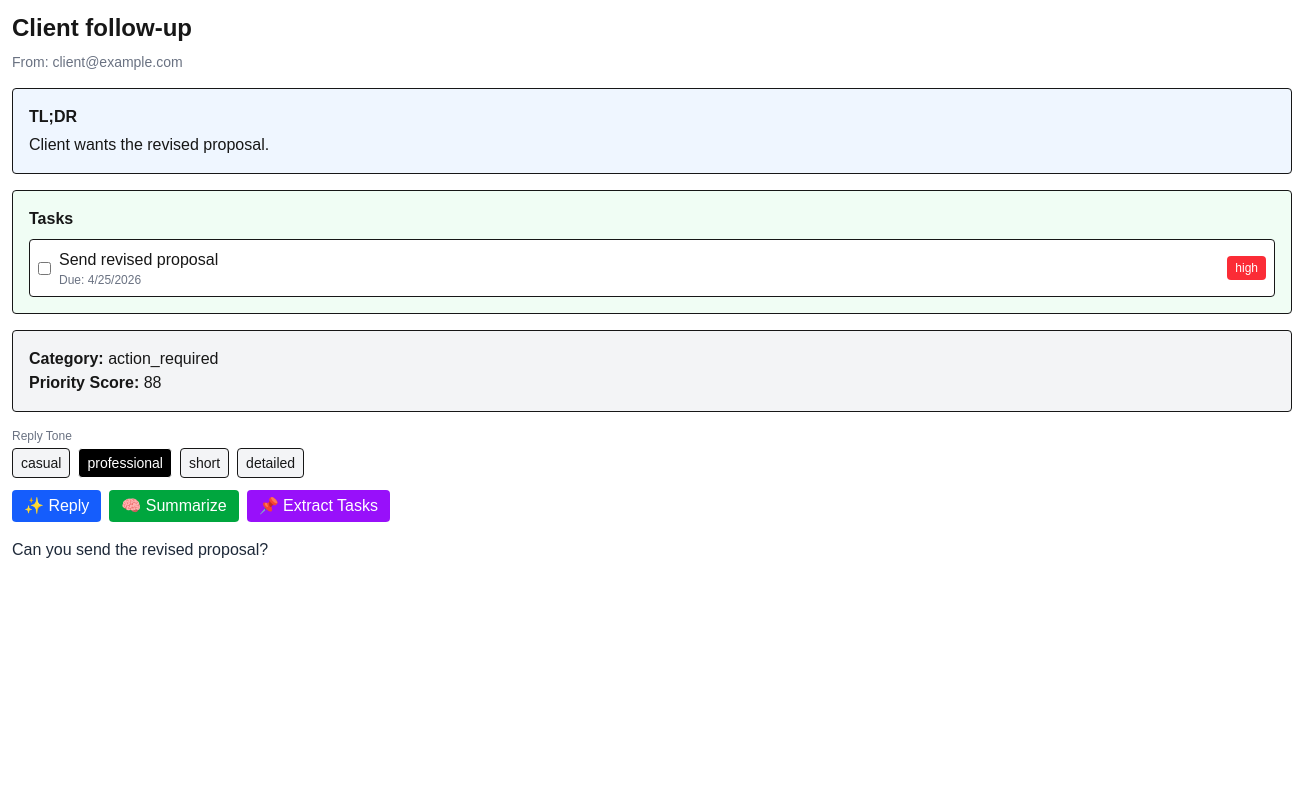
EmailDetail › replaces the task list with extracted tasks
Click the button "📌 Extract Tasks".
click(318, 506)  # box [247, 490, 390, 522]
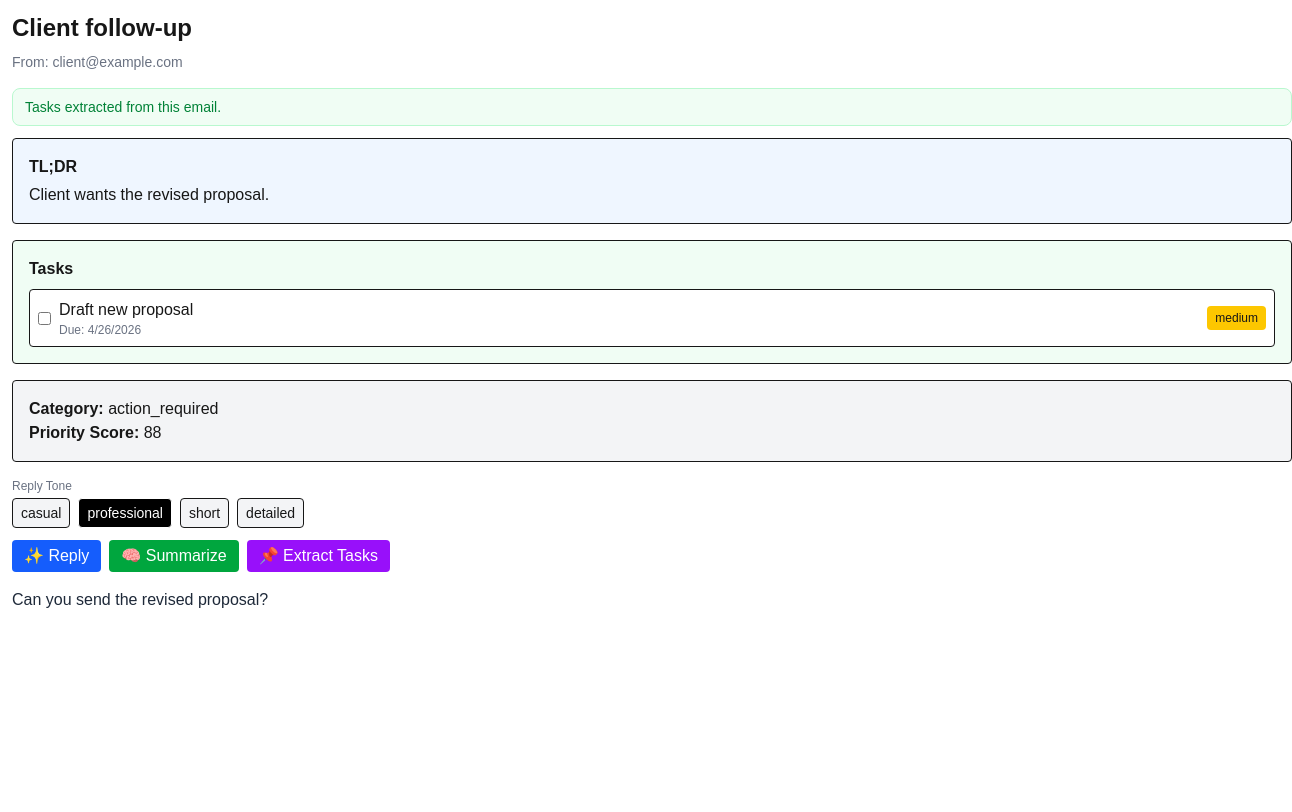
Expected: the text "Draft new proposal" is shown, [59, 298, 193, 322]
Expected: the text "Send revised proposal" is gone
